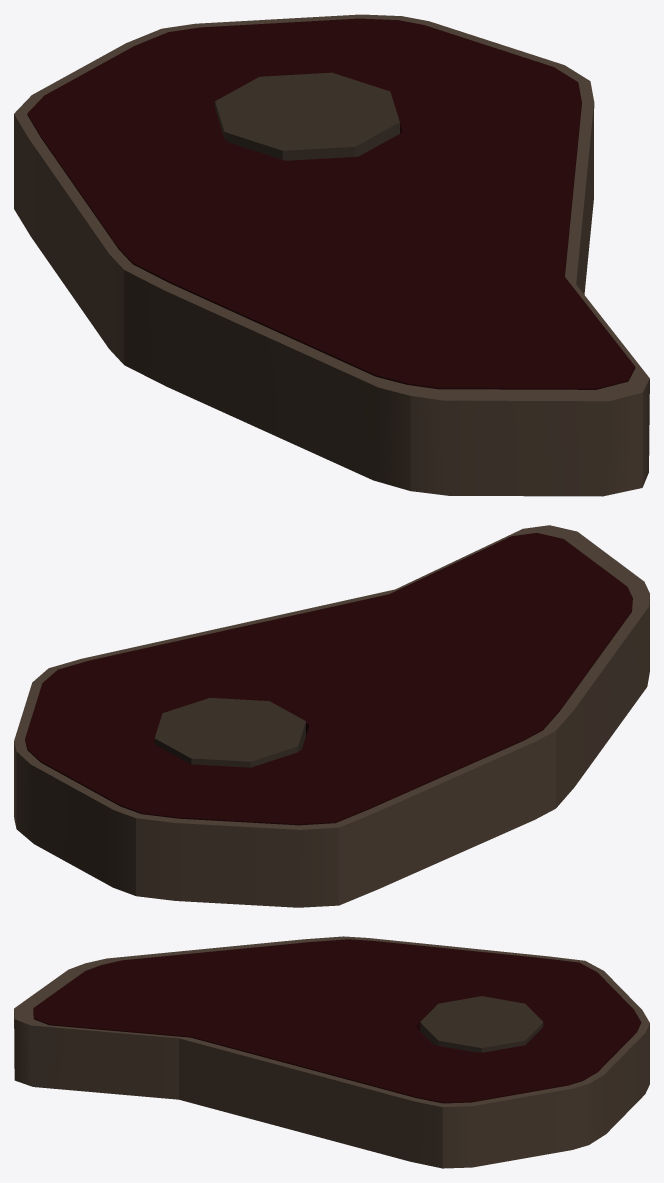
File: _oodSteak.fbx
3 renders of one model, top to bottom at view 1: azimuth 30°, elevation 25°; view 2: azimuth 150°, elevation 25°; view 3: azimuth 270°, elevation 25°, orthographic. The views are drawn at different scales.
Visible parts, largest first — view 1: polySurface213; view 2: polySurface213; view 3: polySurface213.
Boxes of the visible parts, x1=… form: polySurface213: x1=14, y1=14, x2=649, y2=496; polySurface213: x1=14, y1=525, x2=649, y2=907; polySurface213: x1=14, y1=936, x2=649, y2=1168.
Bounding box in the file's own units: 42.6 × 8.46 × 67.07.
